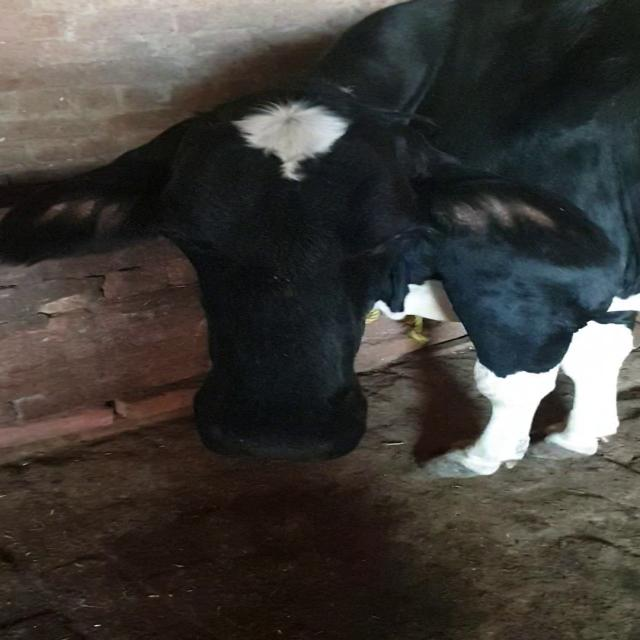cowFace: (153, 96, 454, 481)
